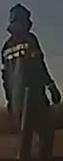gloves: (46, 79, 61, 105)
vest: (4, 34, 45, 104)
